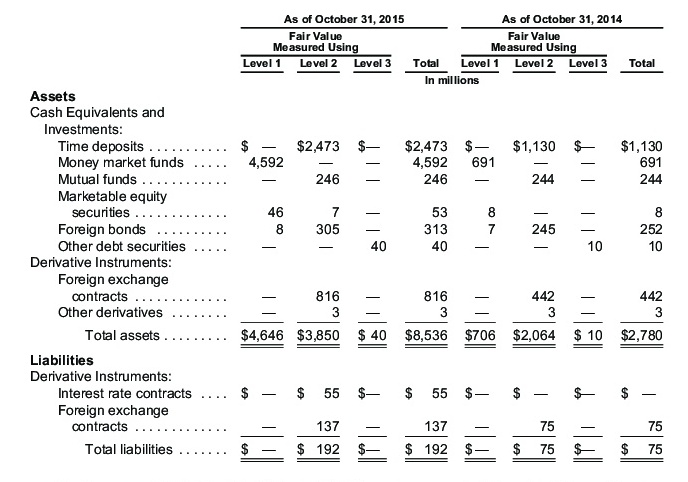table: (0, 0, 688, 482)
